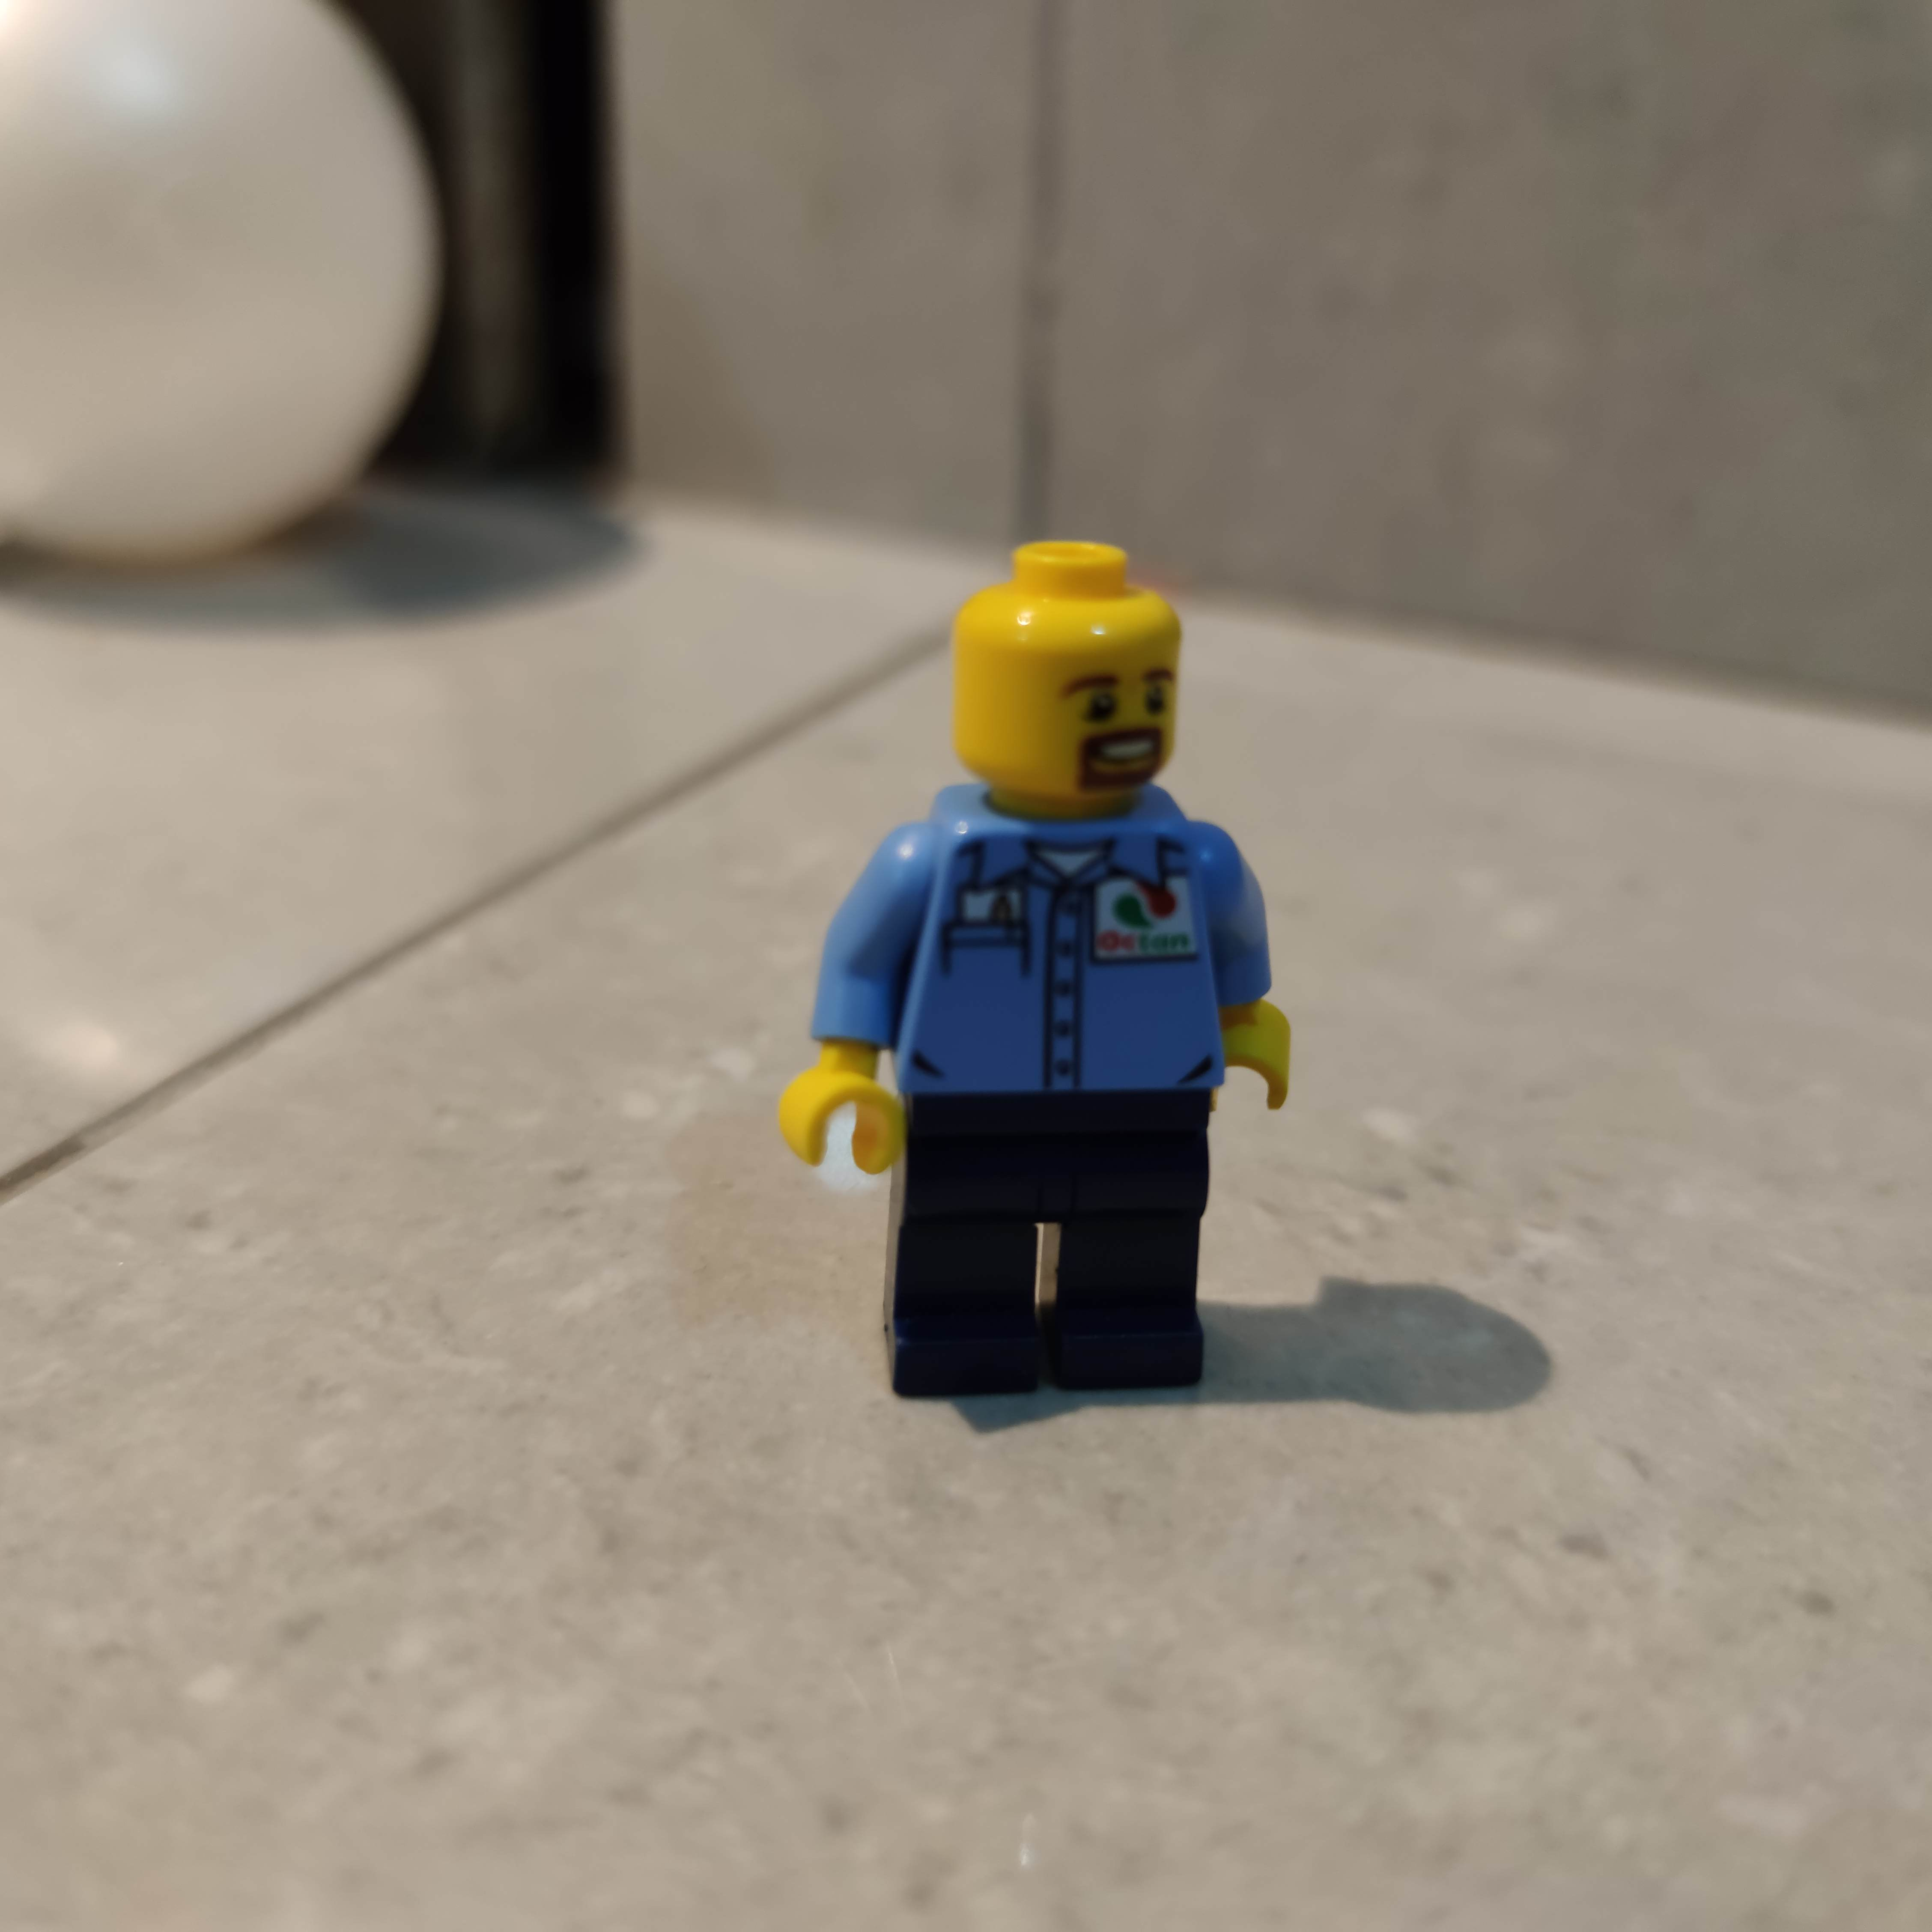lego: (771, 538, 1306, 1410)
